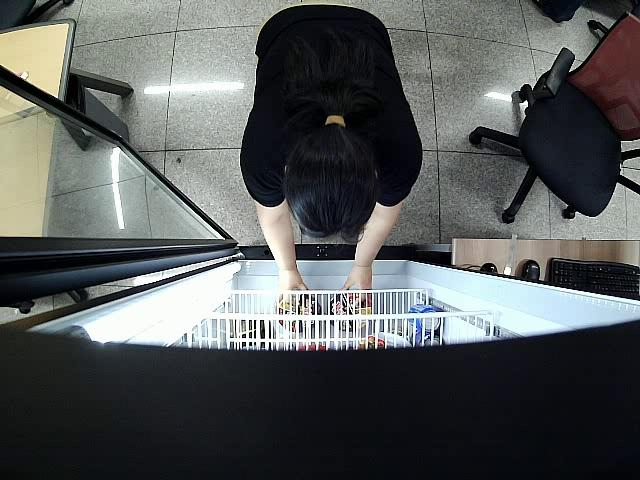00_hand: (341, 269, 374, 307), (275, 271, 309, 305)
